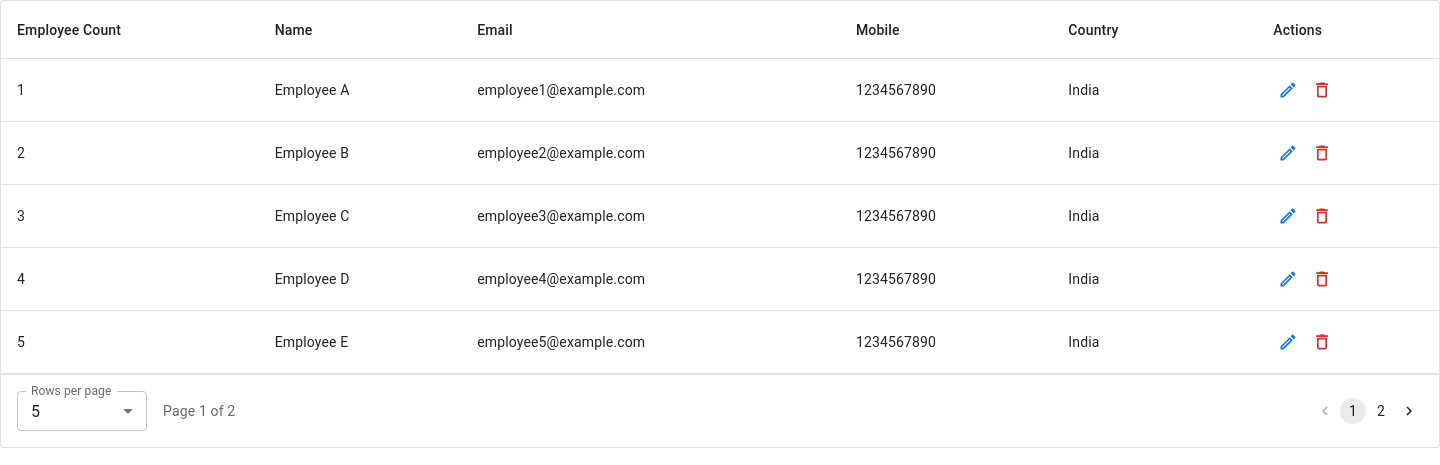
App › shows five employees per page and navigates to the next page
The width and height of the screenshot is (1440, 465).
Expected: the text "Employee A" is shown, [259,59,461,122]
Expected: the text "Employee E" is shown, [259,311,461,374]
Click the button named "Go to next page" at (1409, 411), box [1396,398,1422,424]
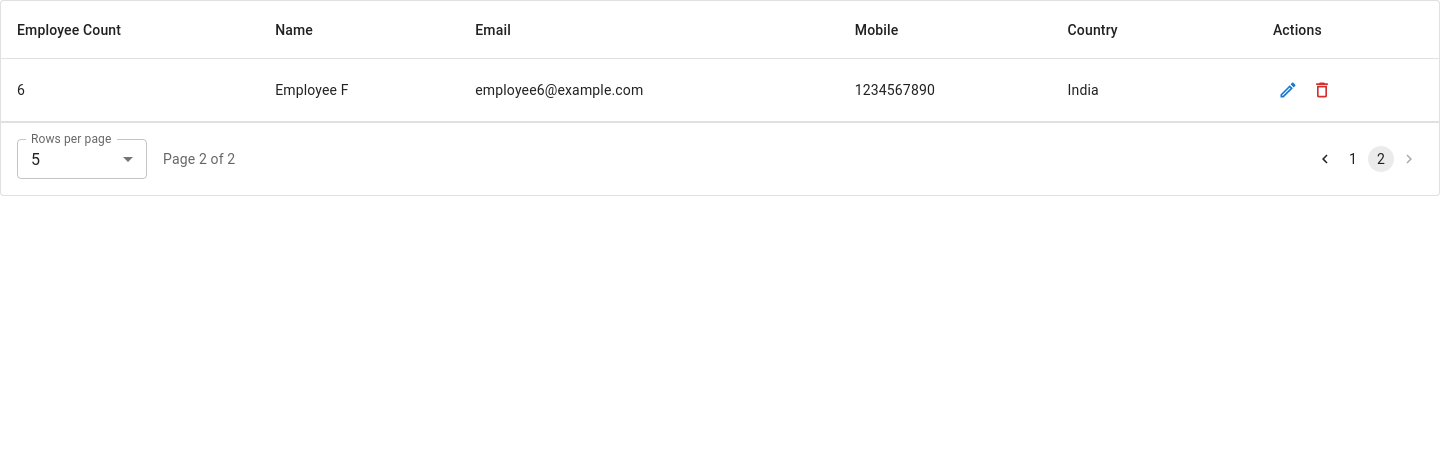
Expected: the text "Employee F" is shown, [259,59,459,122]
Expected: the text "Employee A" is gone
Expected: the text "Page 2 of 2" is shown, [163,149,235,169]
